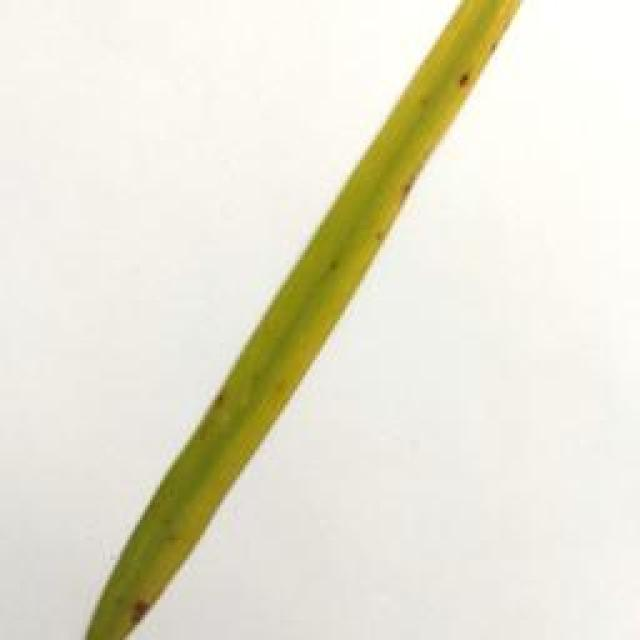Bacterial_Blight: (254, 0, 520, 456)
Brown_Spot: (382, 164, 426, 205), (448, 62, 486, 102), (120, 598, 155, 632), (200, 388, 233, 410), (324, 252, 340, 274)
